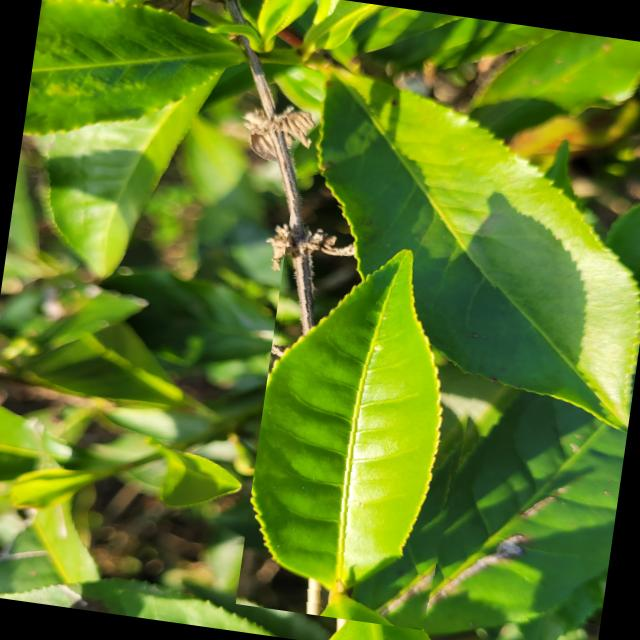Category B(2-4 days): (236, 196, 510, 634)
